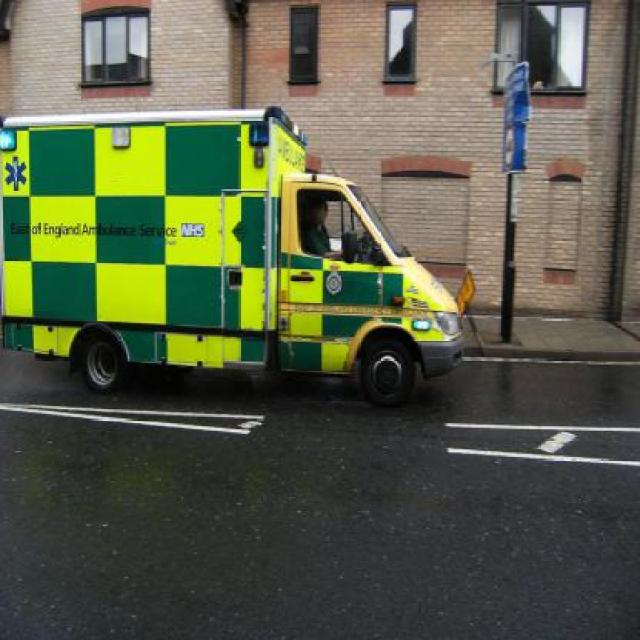Car: (0, 80, 468, 411)
